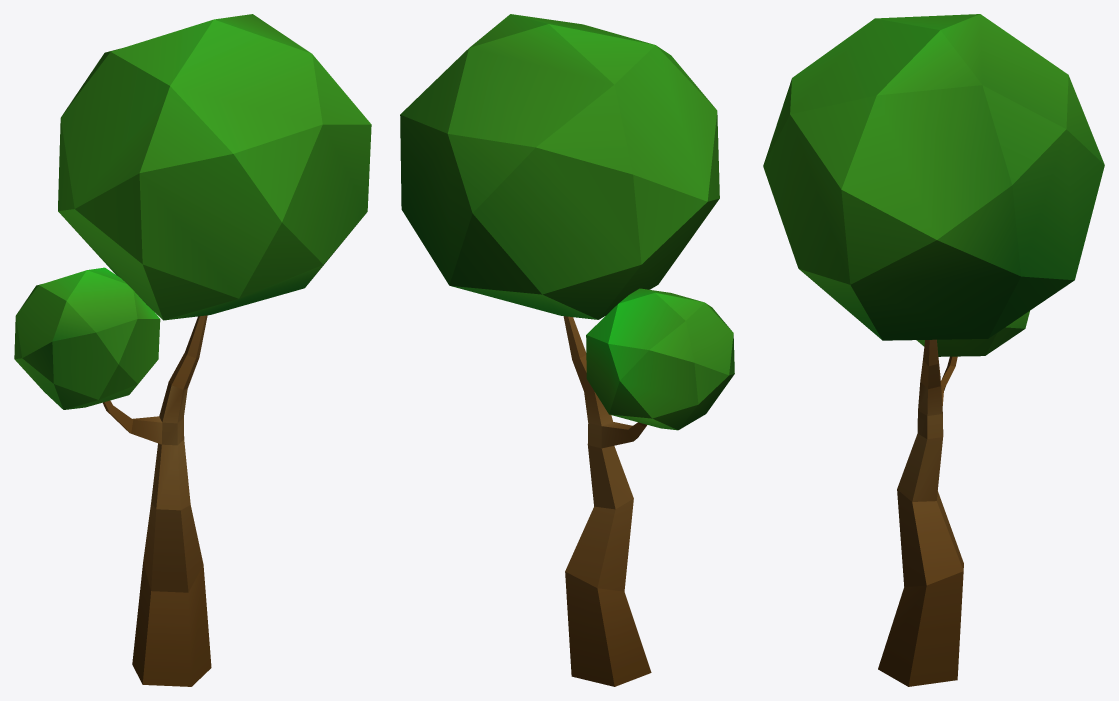
File: TwoBallTree.FBX
3 renders of one model, left to right at view 1: azimuth 30°, elevation 25°; view 2: azimuth 150°, elevation 25°; view 3: azimuth 270°, elevation 25°, orthographic. The views are drawn at different scales.
Parts seen in each view (by area): view 1: TwoBallTree; view 2: TwoBallTree; view 3: TwoBallTree.
Part boxes in pixels (x1=…): TwoBallTree: x1=14, y1=14, x2=371, y2=686; TwoBallTree: x1=400, y1=14, x2=734, y2=686; TwoBallTree: x1=763, y1=14, x2=1104, y2=686.
Bounding box in the file's own units: 154 × 289 × 135.
